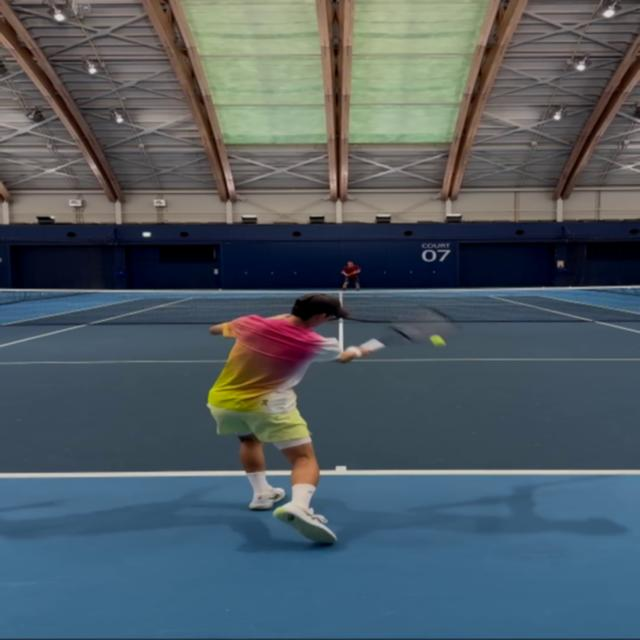tennis_ball: (432, 338, 442, 344)
